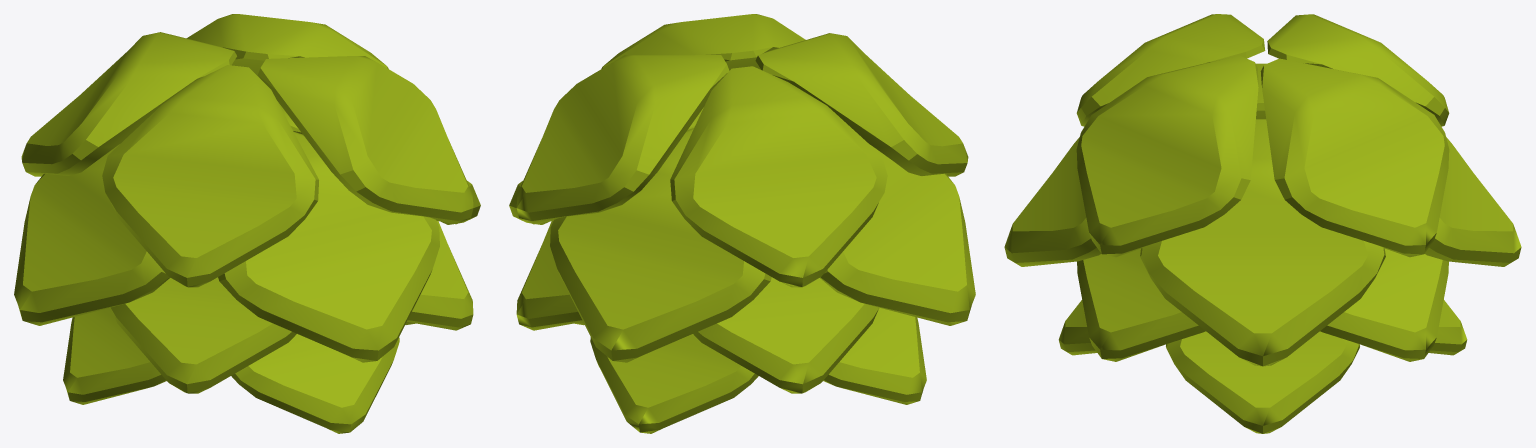
Rendered from Bush.obj.
3 views of the same model, side by side, from view 1: azimuth 30°, elevation 25°; view 2: azimuth 150°, elevation 25°; view 3: azimuth 270°, elevation 25° (orthographic).
Visible parts, largest first — view 1: Bush_Cube.595; view 2: Bush_Cube.595; view 3: Bush_Cube.595.
Boxes of the visible parts, <box> form: Bush_Cube.595: <box>14,14,480,433</box>; Bush_Cube.595: <box>509,14,975,433</box>; Bush_Cube.595: <box>1004,14,1521,433</box>.
Bounding box in the file's own units: 4.63 × 2.94 × 4.63.
Materials: 1 (1 with a texture image).
